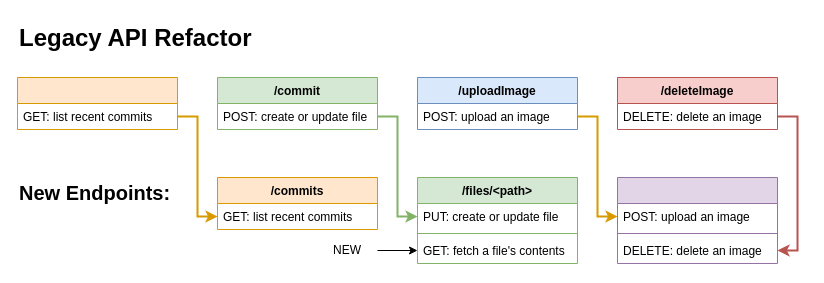
The diagram is 824 pixels wide and 283 high, and some of its shapes have lost their labels. Each missing label, with the box of its shape:
/getCommits: (16, 76, 178, 130)
/images: (616, 176, 778, 264)
